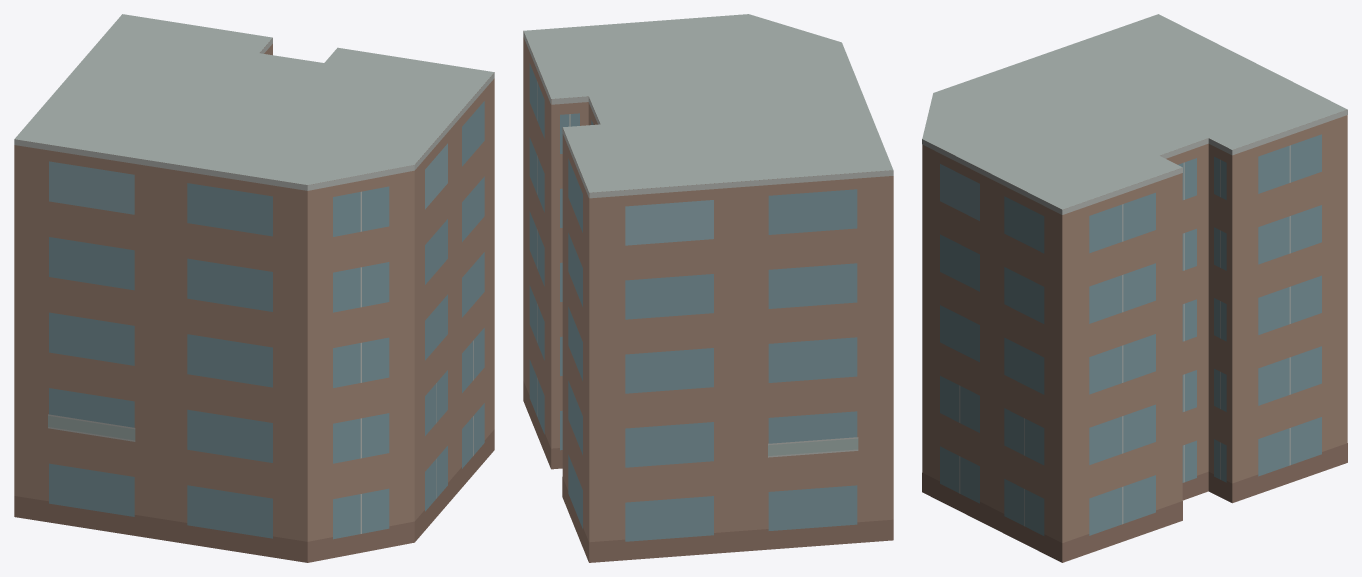
The model's file is survey-upis-32967806.glb.
3 renders of one model, left to right at view 1: azimuth 30°, elevation 25°; view 2: azimuth 150°, elevation 25°; view 3: azimuth 270°, elevation 25°, orthographic. The views are drawn at different scales.
Visible parts, largest first — view 1: survey-upis-32967806.tmp; view 2: survey-upis-32967806.tmp; view 3: survey-upis-32967806.tmp.
Boxes of the visible parts, x1,y1,x2,y2 form: survey-upis-32967806.tmp: (14, 14, 494, 562); survey-upis-32967806.tmp: (523, 14, 893, 562); survey-upis-32967806.tmp: (922, 14, 1347, 562).
Size of the model in its own units: 18.9 by 15.9 by 17.37.
